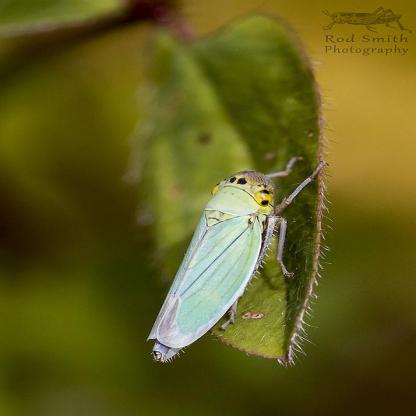Green-Leafhopper: (143, 155, 321, 369)
